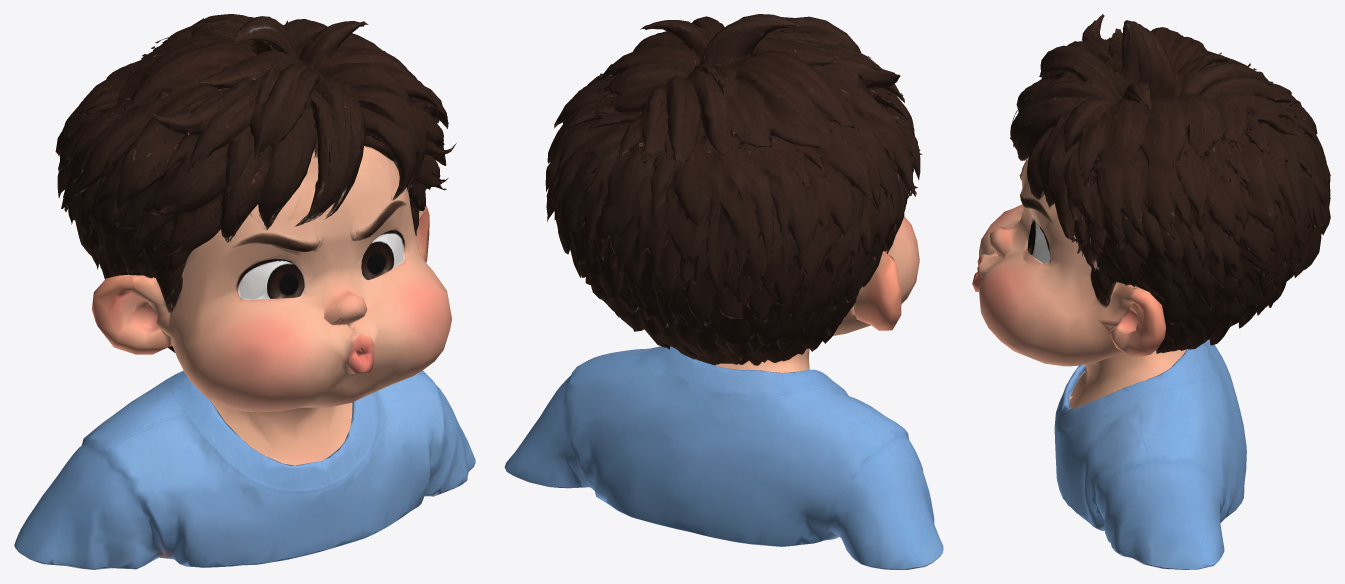
Rendered from head.glb.
The picture shows the model from 3 angles, left to right: view 1: azimuth 30°, elevation 25°; view 2: azimuth 150°, elevation 25°; view 3: azimuth 270°, elevation 25°; orthographic projection. The views are drawn at different scales.
Parts seen in each view (by area): view 1: head; view 2: head; view 3: head.
Boxes of the visible parts, left/top/right/bottom form: head: left=14, top=14, right=475, bottom=569; head: left=504, top=14, right=943, bottom=569; head: left=972, top=14, right=1330, bottom=569.
Size of the model in its own units: 1.3 by 1.41 by 1.04.
1 material, 1 textured.
